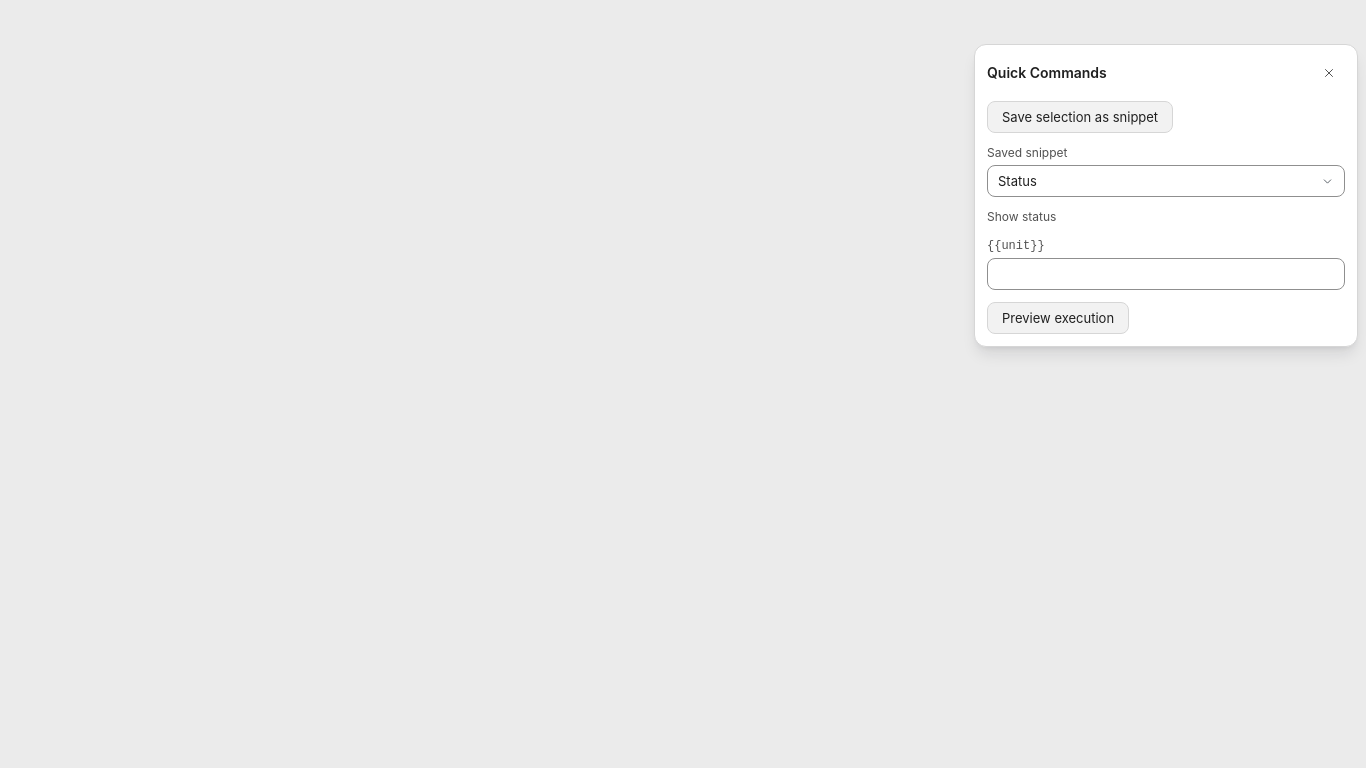
Test: TerminalQuickCommands › saves selected terminal text as a reusable snippet
The width and height of the screenshot is (1366, 768).
Click the button "Save selection as snippet" at coordinates (1080, 117), box [987,101,1173,133]
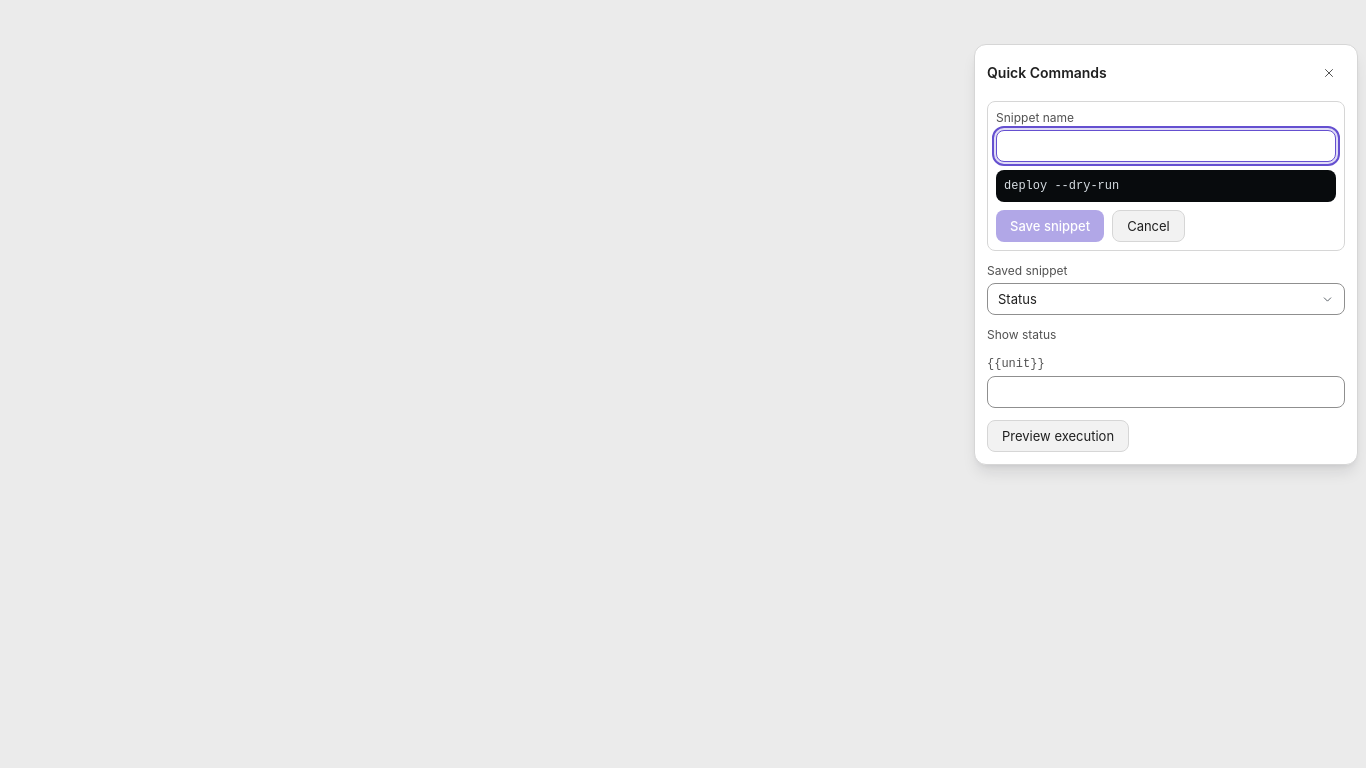
Type "Deploy" into the field labelled "Snippet name" at coordinates (1166, 146), box [996,130,1336,162]
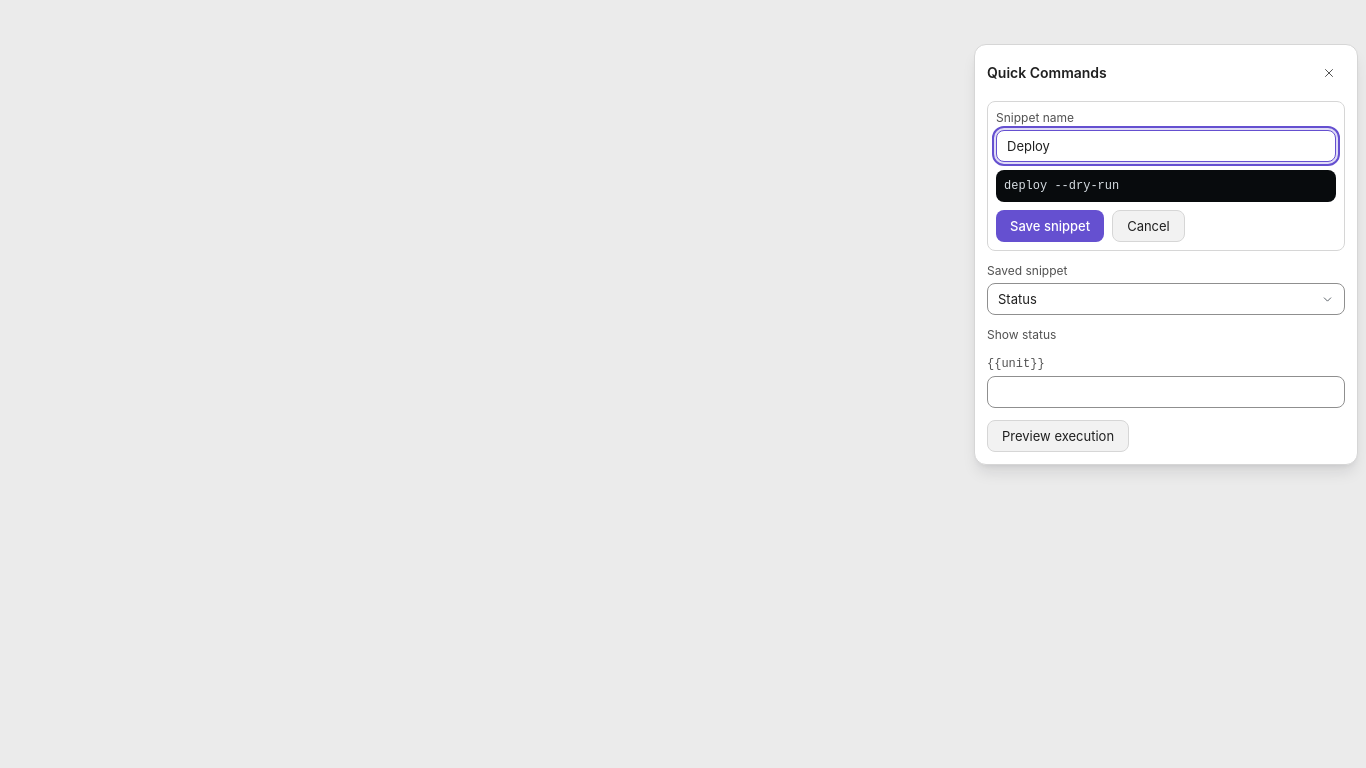
Click the button "Save snippet" at coordinates (1050, 226), box [996,210,1104,242]
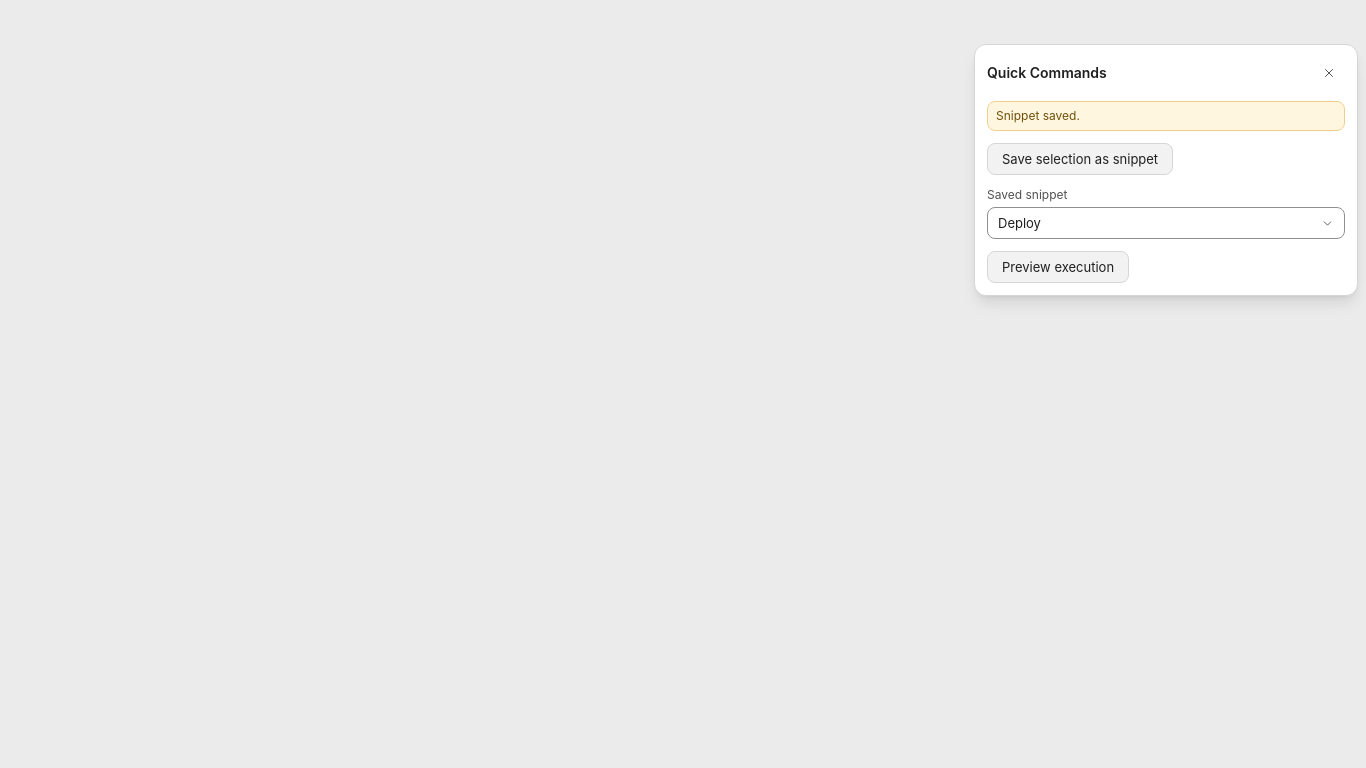
Expected: the text "Snippet saved." is shown, [996,108,1080,123]
